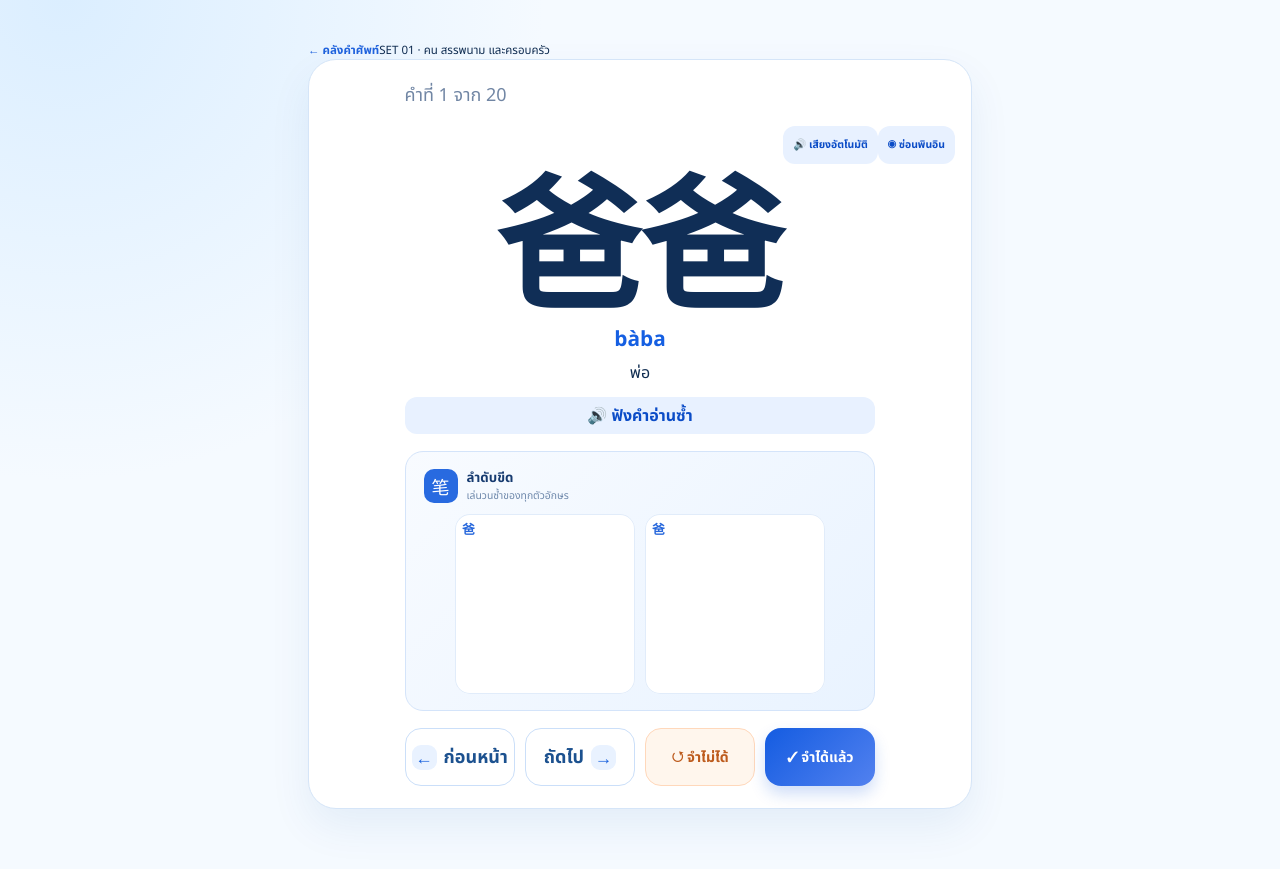
shows real vocabulary for a friendly set route and lets the learner hide pinyin
The width and height of the screenshot is (1280, 869).
Expected: the text "爸爸" is shown, [496,131,784,339]
Expected: the text "bàba" is shown, [614,324,666,355]
Step 1. Click the button "◉ ซ่อนพินอิน" → (916, 145), box [878,126,955,164]
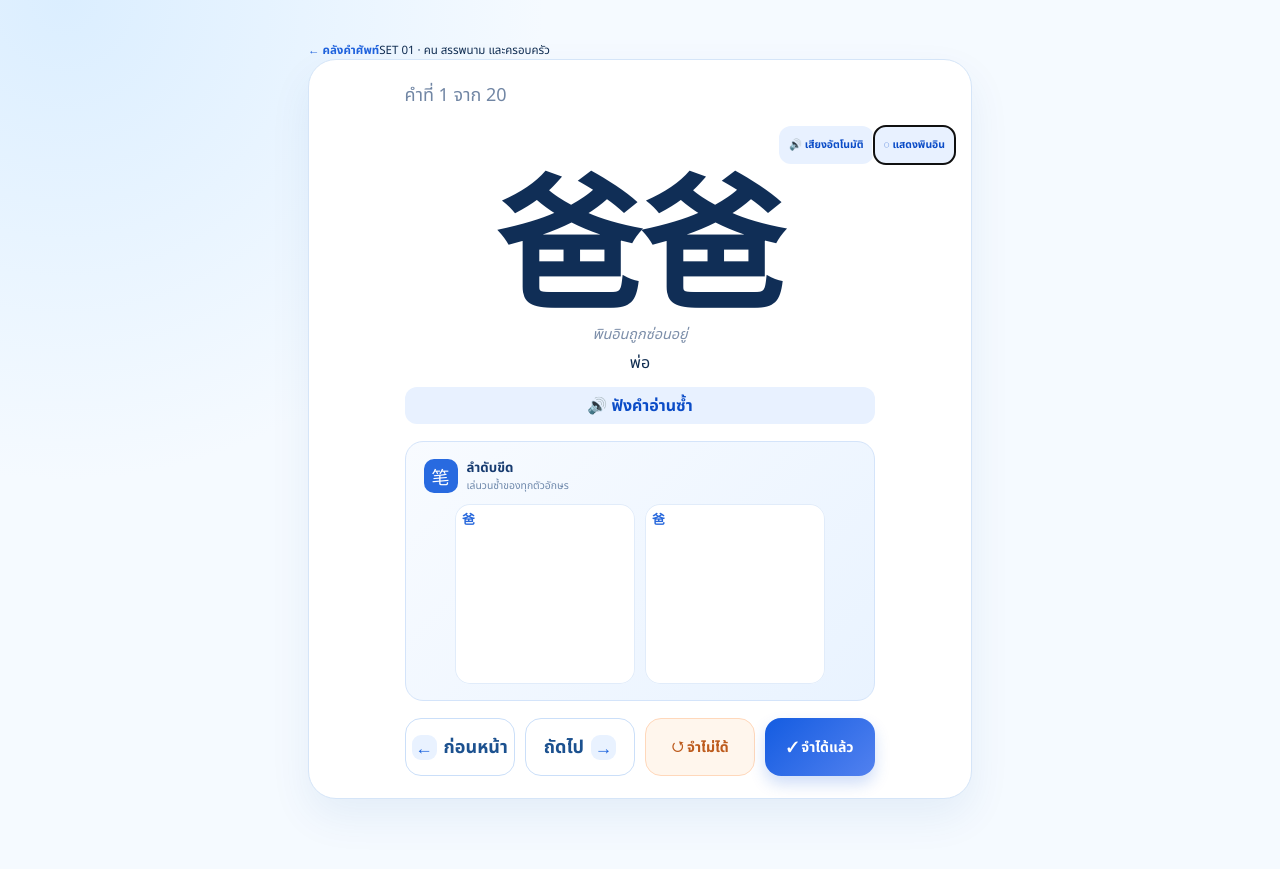
Expected: the text "bàba" is gone
